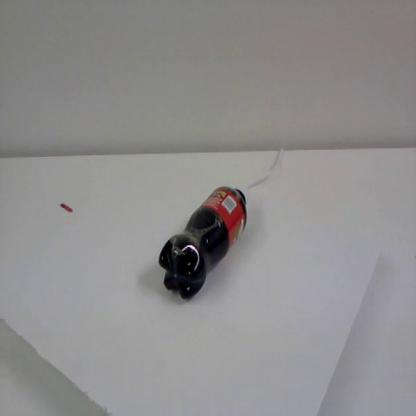bottle: (156, 182, 252, 302)
